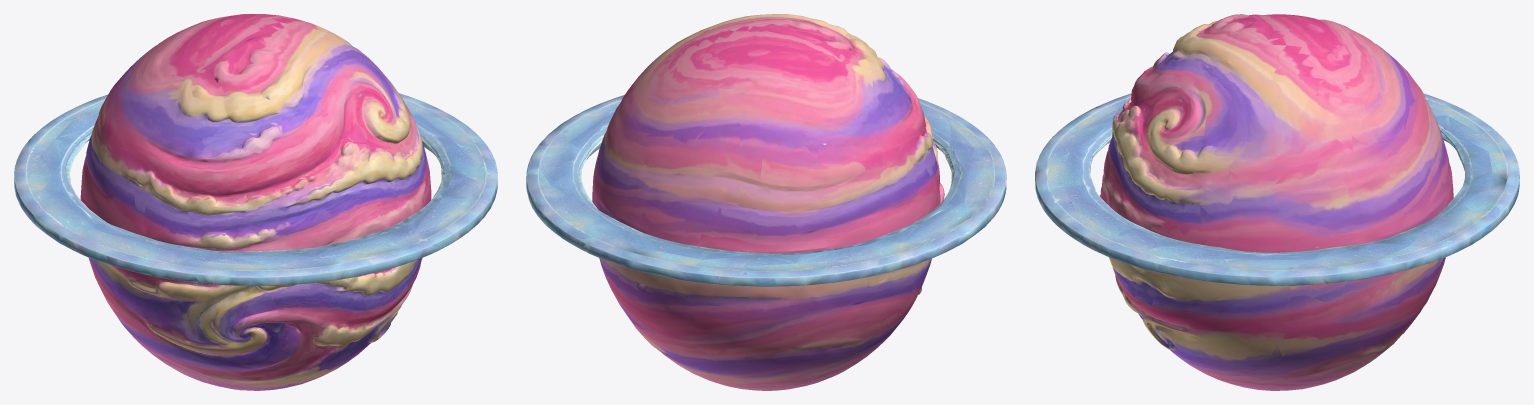
Rendered from planet-ring.glb.
3 renders of one model, left to right at view 1: azimuth 30°, elevation 25°; view 2: azimuth 150°, elevation 25°; view 3: azimuth 270°, elevation 25°, orthographic.
Visible parts, largest first — view 1: Mesh_0; view 2: Mesh_0; view 3: Mesh_0.
Part boxes in pixels (<box>): Mesh_0: <box>14,14,497,390</box>; Mesh_0: <box>526,14,1006,390</box>; Mesh_0: <box>1035,14,1519,390</box>.
Size of the model in its own units: 0.9993 by 0.7897 by 1.
Materials: 1 (1 with a texture image).
